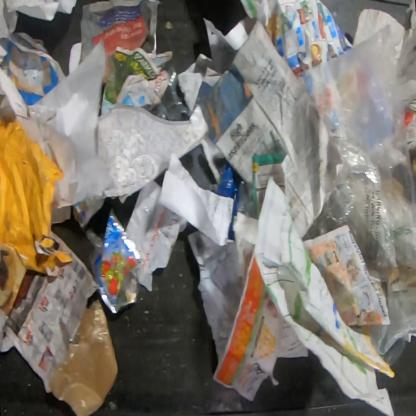cardboard: (0, 115, 73, 279), (352, 7, 415, 85), (405, 0, 415, 31)
soft_plastic: (300, 23, 415, 369), (48, 297, 119, 415), (84, 206, 148, 316), (147, 65, 193, 122), (216, 162, 258, 219), (178, 143, 219, 188)
